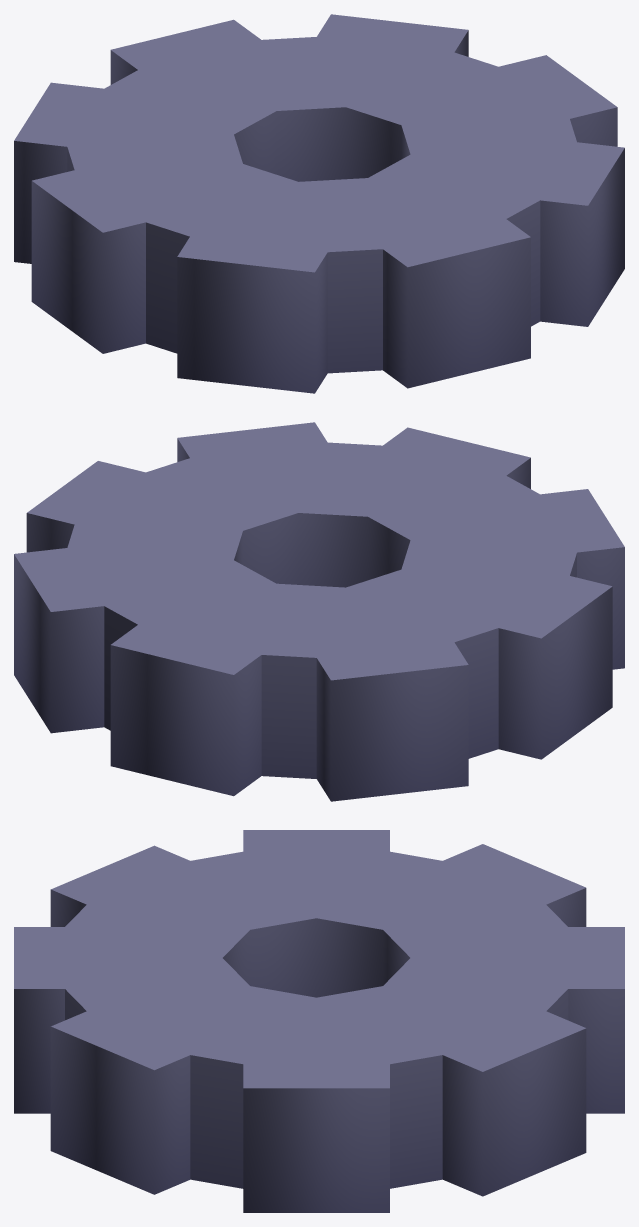
The model's file is cog-c.glb.
3 views of the same model, one above another, from view 1: azimuth 30°, elevation 25°; view 2: azimuth 150°, elevation 25°; view 3: azimuth 270°, elevation 25° (orthographic). The views are drawn at different scales.
Parts seen in each view (by area): view 1: cog-c; view 2: cog-c; view 3: cog-c.
Part boxes in pixels (bbox=[...]): cog-c: bbox=[14, 14, 624, 393]; cog-c: bbox=[14, 422, 624, 801]; cog-c: bbox=[14, 830, 624, 1212].
Bounding box in the file's own units: 1 × 0.225 × 1.
